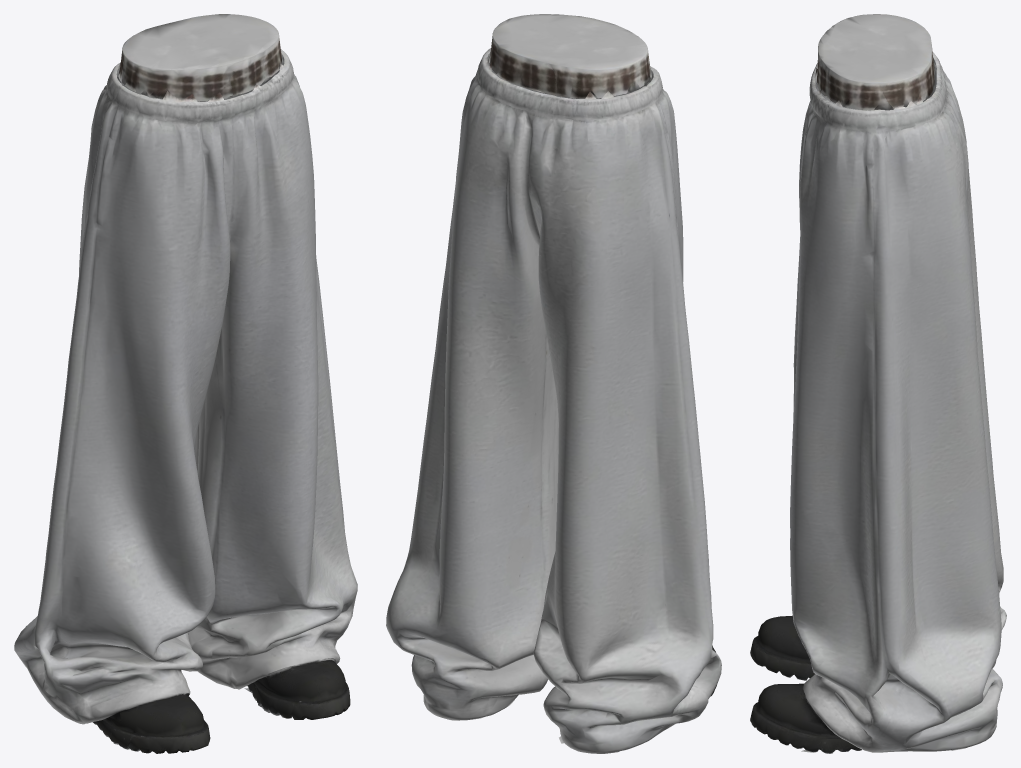
File: melange-brown-sweatpants.glb
The picture shows the model from 3 angles, left to right: view 1: azimuth 30°, elevation 25°; view 2: azimuth 150°, elevation 25°; view 3: azimuth 270°, elevation 25°; orthographic projection.
Parts seen in each view (by area): view 1: tripo_part_0, tripo_part_5, tripo_part_4, tripo_part_3; view 2: tripo_part_0, tripo_part_5, tripo_part_6; view 3: tripo_part_0, tripo_part_5, tripo_part_3, tripo_part_4.
Part boxes in pixels (x1,y1,x2,y2): tripo_part_0: (14, 49, 357, 724); tripo_part_5: (118, 14, 282, 100); tripo_part_4: (93, 693, 210, 753); tripo_part_3: (244, 658, 350, 719); tripo_part_0: (386, 48, 721, 753); tripo_part_5: (489, 14, 651, 98); tripo_part_6: (489, 55, 651, 98); tripo_part_0: (790, 51, 1006, 752); tripo_part_5: (817, 14, 934, 110); tripo_part_3: (750, 683, 861, 753); tripo_part_4: (750, 615, 814, 680).
Size of the model in its own units: 0.4846 by 0.9858 by 0.3519.
5 materials, 5 textured.
